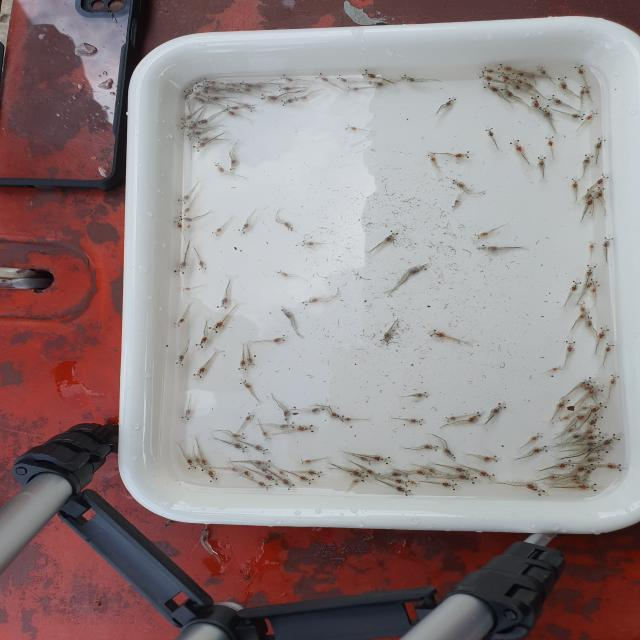babyshrimp: (403, 264, 431, 278), (170, 257, 190, 276), (427, 328, 453, 341), (525, 483, 549, 497), (555, 394, 573, 412), (573, 483, 602, 494), (600, 432, 621, 447), (488, 402, 509, 417), (545, 93, 566, 107), (591, 136, 608, 153), (594, 325, 611, 342), (205, 320, 225, 334), (506, 137, 523, 153), (583, 277, 601, 292), (190, 365, 208, 380), (587, 402, 609, 414), (278, 477, 298, 490), (215, 295, 232, 310), (456, 474, 479, 485), (176, 193, 195, 206), (478, 243, 500, 254), (574, 377, 598, 387), (552, 459, 576, 469), (359, 69, 379, 81), (262, 472, 279, 486), (582, 193, 600, 206), (583, 424, 604, 435), (477, 470, 498, 481), (399, 73, 420, 84), (296, 424, 319, 434), (250, 460, 273, 470), (347, 470, 370, 480), (443, 448, 458, 463), (194, 334, 209, 349), (556, 76, 570, 92), (578, 454, 606, 462), (209, 224, 225, 238), (566, 279, 583, 292), (587, 413, 604, 426), (314, 71, 331, 84), (603, 462, 625, 472), (575, 463, 597, 473), (250, 444, 270, 455), (189, 119, 211, 129), (192, 141, 210, 153), (584, 264, 598, 279), (568, 413, 589, 423), (278, 97, 299, 107), (495, 71, 514, 82), (279, 307, 295, 320), (478, 71, 495, 83), (384, 230, 401, 242), (519, 78, 536, 90), (585, 431, 605, 441), (299, 296, 319, 306), (497, 63, 515, 74), (394, 485, 412, 496), (367, 469, 385, 480), (276, 421, 298, 430), (389, 470, 411, 479), (534, 63, 549, 76), (539, 104, 554, 117), (601, 236, 616, 249), (207, 468, 220, 483), (179, 409, 194, 422), (585, 385, 601, 397), (234, 223, 250, 235), (440, 481, 459, 491), (372, 455, 391, 465), (298, 475, 317, 485), (193, 81, 214, 90), (484, 83, 498, 96), (528, 95, 542, 108), (581, 153, 595, 166), (228, 159, 242, 172), (448, 198, 463, 210), (472, 230, 490, 240), (255, 481, 273, 491), (241, 412, 256, 424), (200, 457, 212, 472), (258, 93, 280, 101), (453, 151, 472, 160), (531, 445, 550, 454), (230, 444, 249, 453), (278, 73, 297, 82), (594, 174, 611, 184), (237, 379, 254, 389), (242, 103, 259, 113), (483, 126, 496, 139), (564, 341, 577, 354), (536, 156, 548, 170), (608, 374, 622, 386), (185, 459, 199, 471), (175, 353, 187, 367), (237, 358, 249, 372), (500, 87, 515, 98), (569, 177, 580, 192), (180, 113, 195, 124), (240, 468, 255, 479), (306, 469, 324, 478), (528, 432, 544, 442), (424, 466, 440, 476), (506, 81, 522, 91), (426, 152, 438, 165), (590, 283, 602, 296), (575, 301, 588, 313), (604, 343, 617, 355), (260, 430, 273, 442), (186, 131, 208, 138), (422, 443, 441, 451), (407, 418, 425, 426), (392, 479, 410, 487), (232, 432, 248, 441), (197, 260, 209, 272), (467, 412, 483, 421), (214, 161, 226, 173), (196, 136, 214, 144), (573, 64, 586, 75), (545, 135, 556, 148), (596, 186, 607, 199), (330, 411, 343, 422), (445, 96, 458, 107), (585, 110, 599, 120), (410, 469, 430, 476), (173, 317, 187, 327), (283, 222, 297, 232), (225, 104, 242, 112), (587, 240, 597, 253), (570, 113, 586, 121), (484, 455, 500, 463), (275, 269, 291, 277), (276, 85, 292, 93), (451, 179, 465, 188), (451, 467, 469, 474), (283, 409, 292, 423), (413, 392, 431, 399), (367, 81, 385, 88), (275, 469, 289, 478), (482, 66, 497, 74), (549, 364, 564, 372), (304, 408, 324, 414), (179, 207, 191, 217), (237, 82, 257, 88), (335, 74, 347, 84), (346, 86, 363, 93), (273, 335, 286, 344), (585, 314, 593, 328), (558, 414, 572, 422), (360, 457, 374, 465), (443, 415, 457, 423), (180, 123, 194, 131), (344, 123, 358, 131), (247, 357, 258, 367), (172, 220, 183, 230), (206, 95, 224, 101), (511, 75, 523, 84), (182, 89, 191, 100), (179, 216, 193, 223), (195, 97, 207, 105), (409, 480, 422, 487), (179, 286, 192, 293), (583, 86, 592, 96), (299, 459, 314, 465), (342, 414, 353, 422), (223, 109, 235, 116), (579, 85, 586, 95), (183, 224, 191, 232), (510, 72, 524, 76)
